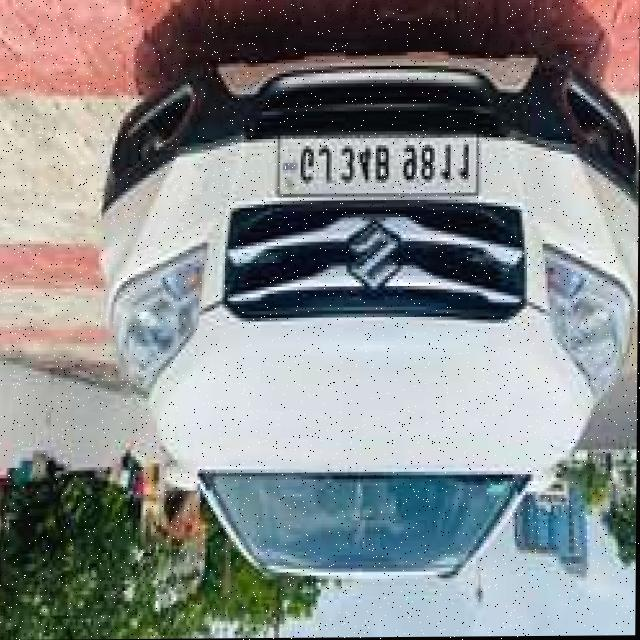plate: (275, 135, 479, 202)
